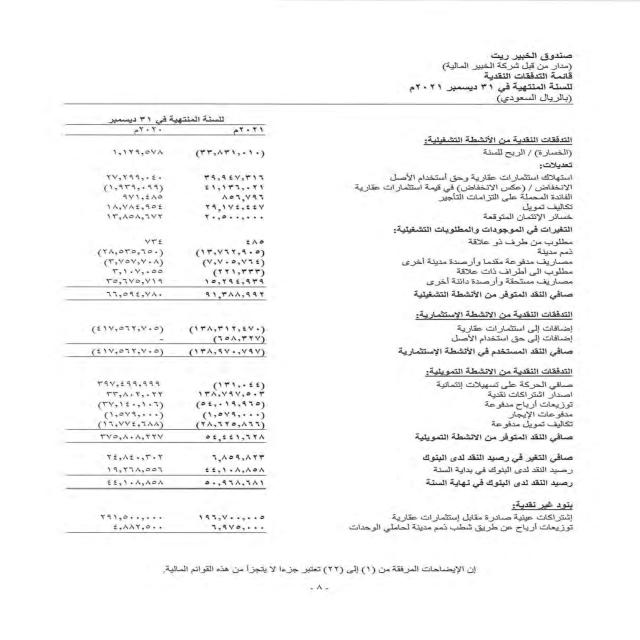financial_sheets: (481, 71, 582, 82)
table: (19, 106, 302, 546)
